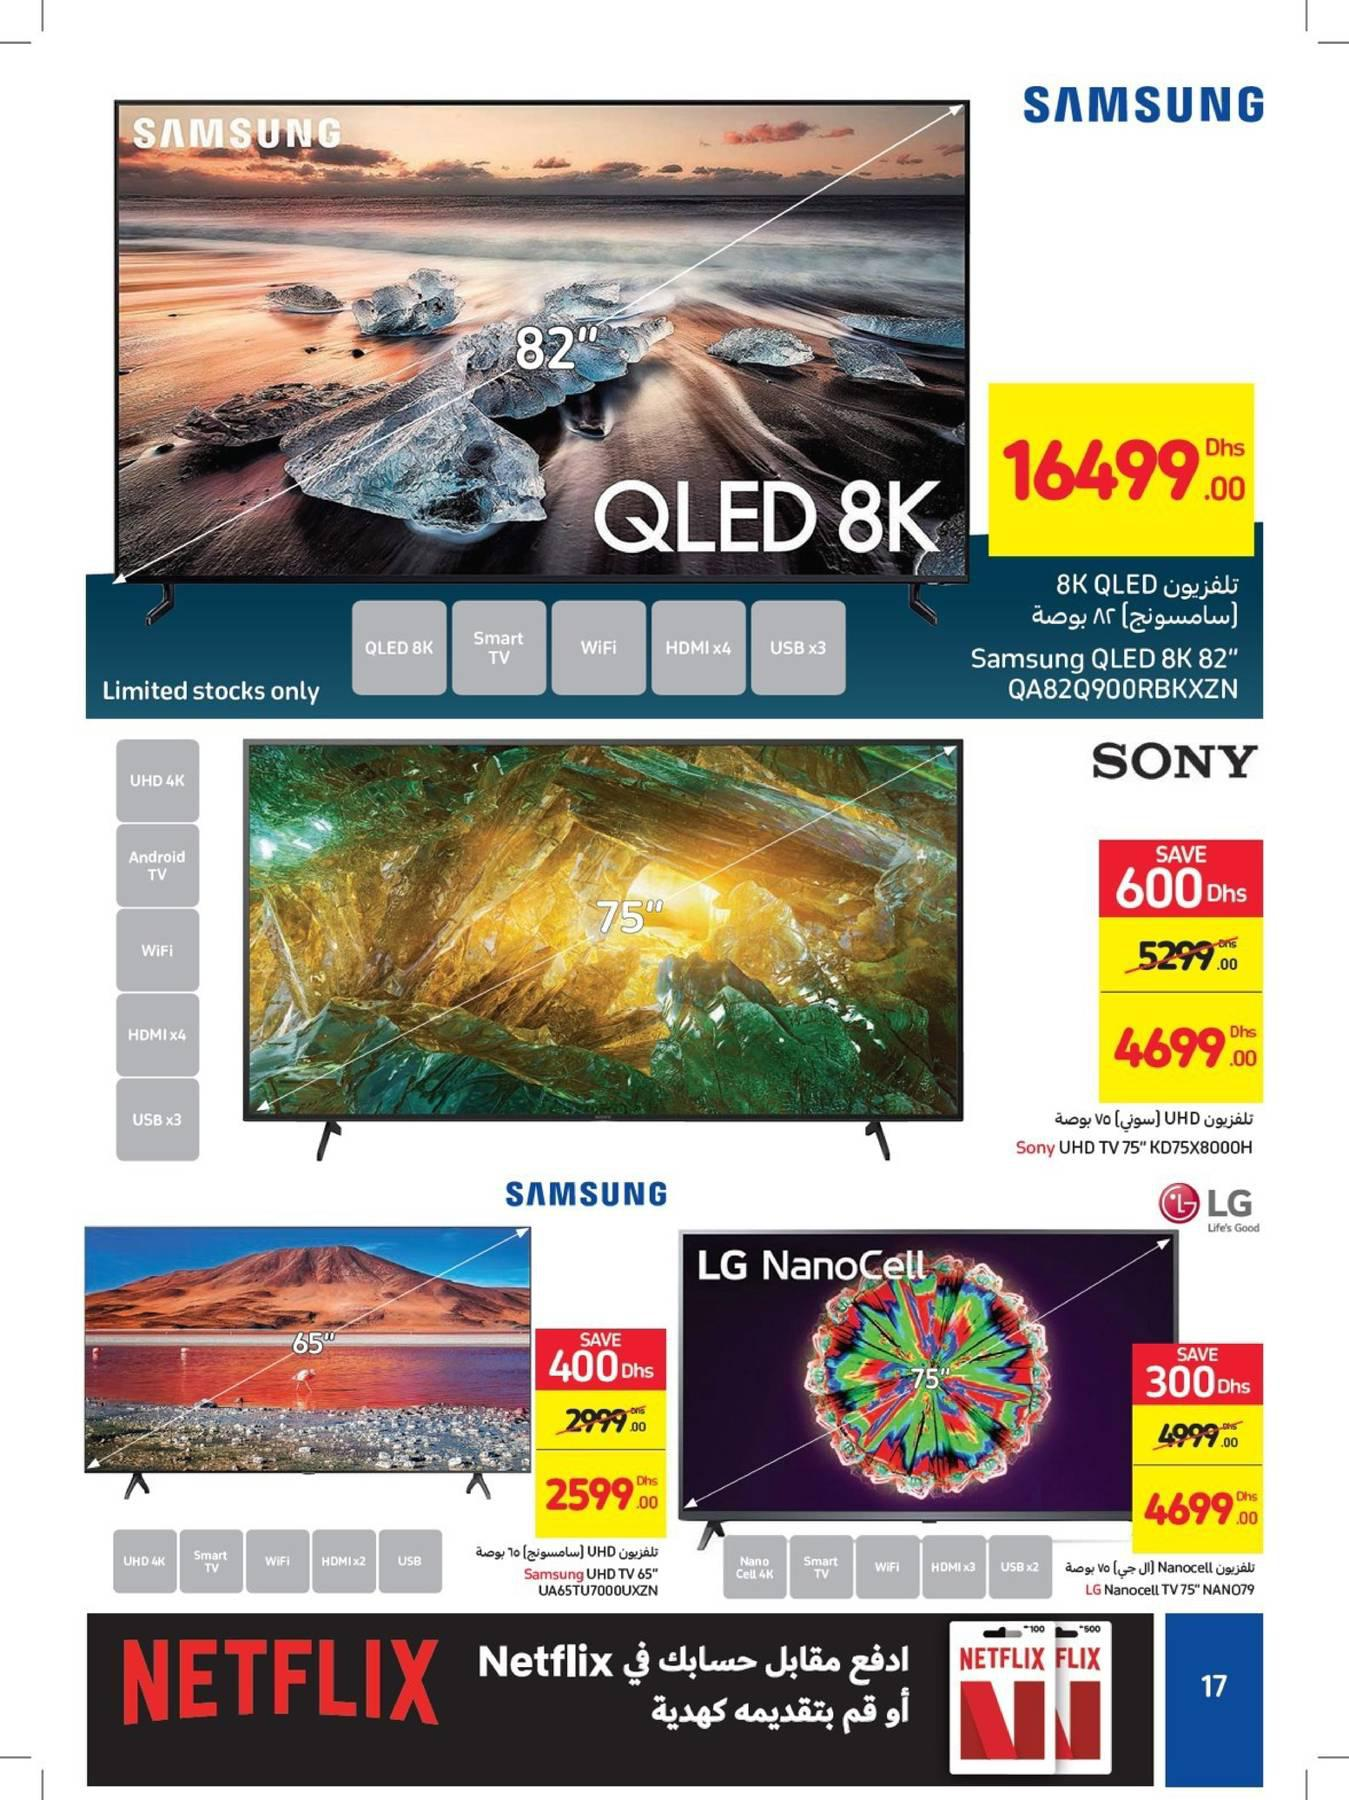text: (949, 567, 1258, 711), (1005, 1100, 1270, 1171), (470, 1535, 665, 1604), (1060, 1553, 1265, 1604)
